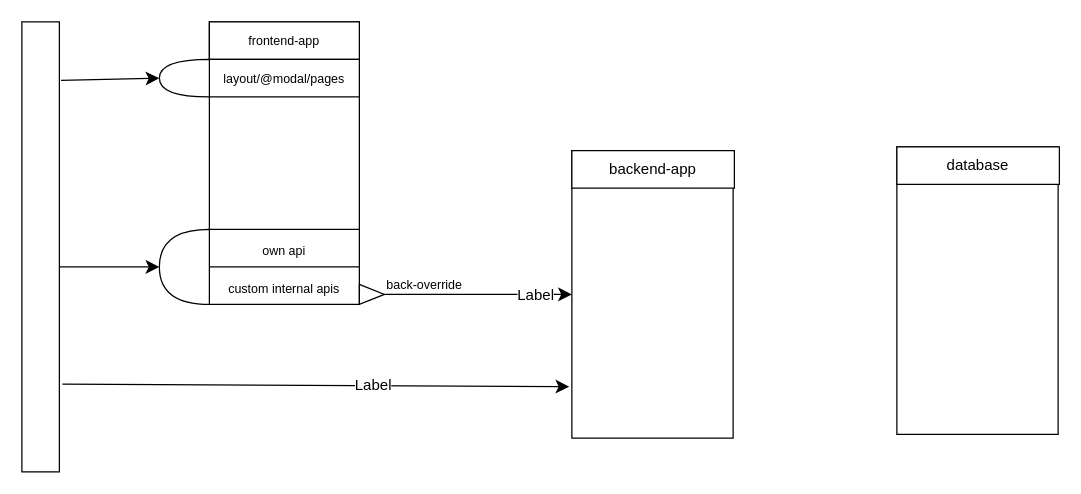
The diagram is 1081 pixels wide and 494 high, and some of its shapes have lost their labels. The centre of each missing label's shape, as x and y in pixels:
"/api" goes at point (183, 266).
"/auth" goes at point (183, 77).
